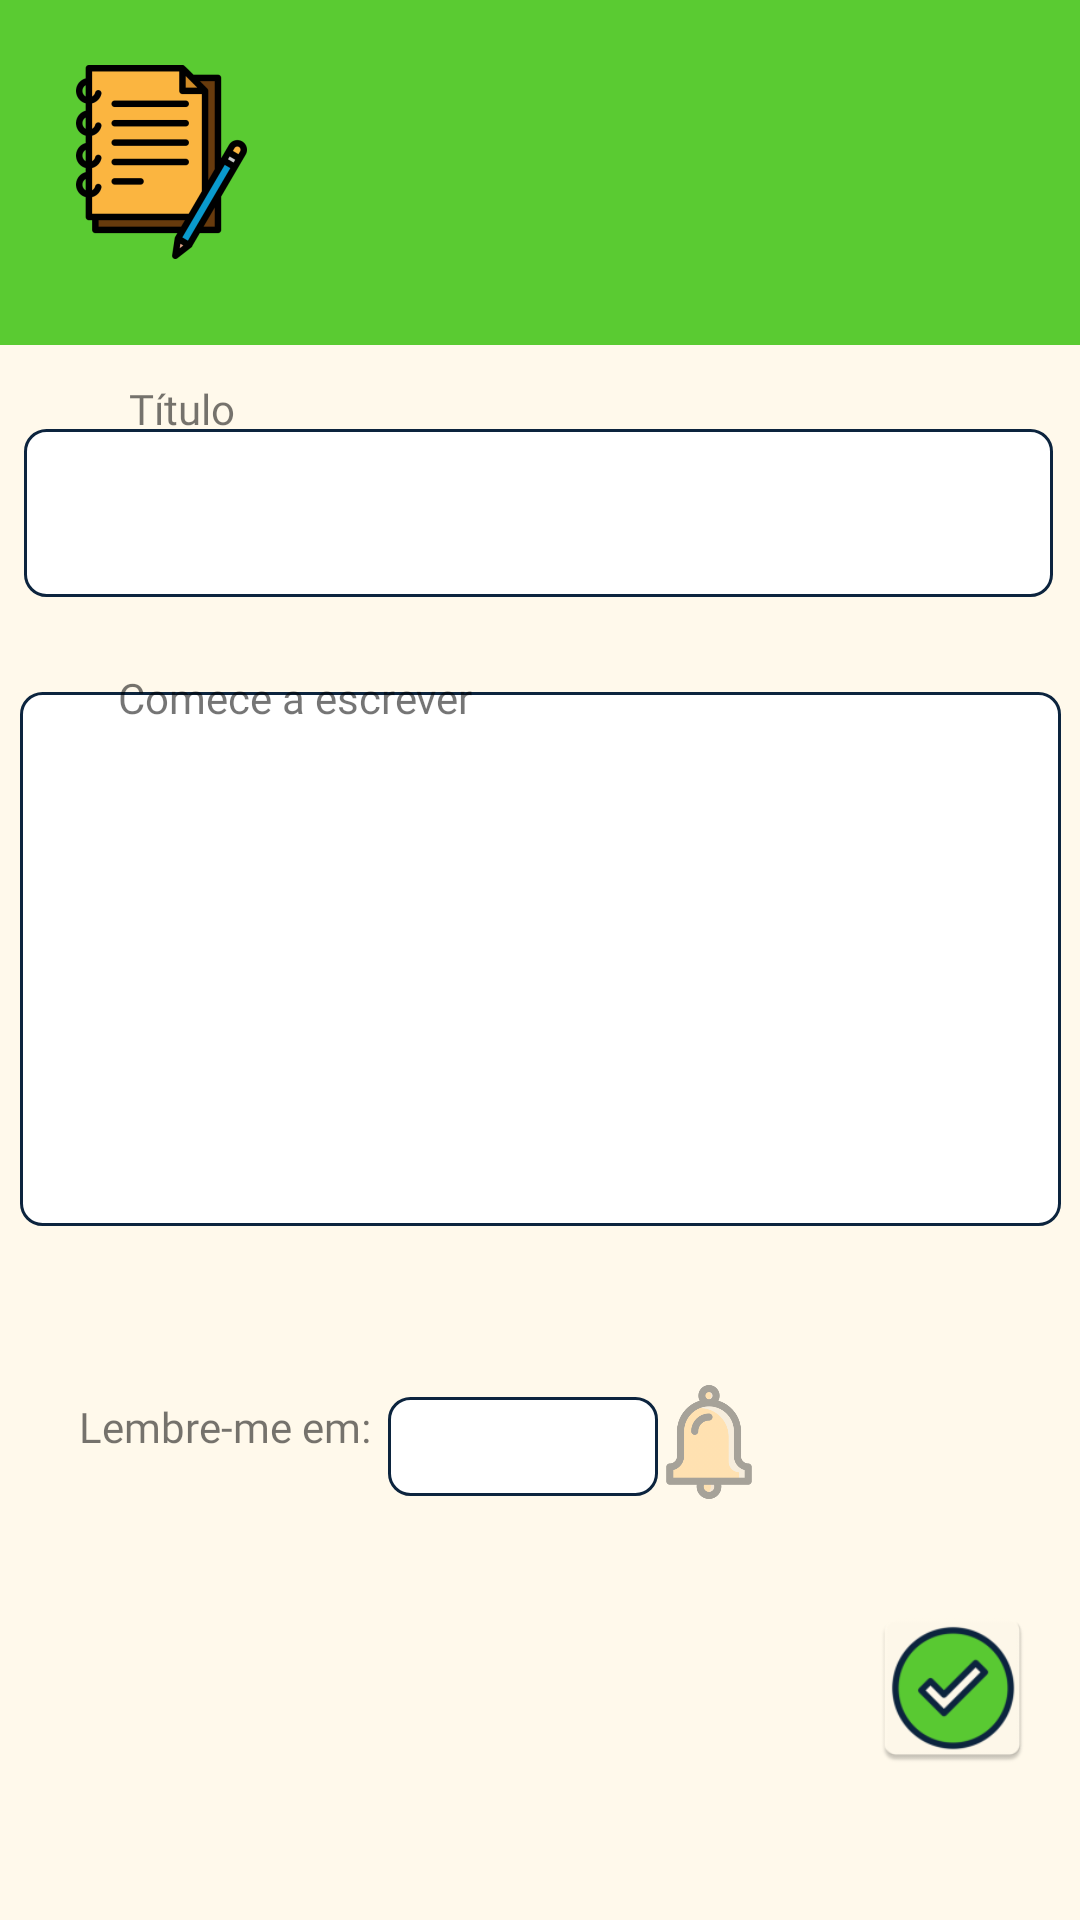

Named icons in this screenshot (1080*1920) and their centers, (x,y):
check: (953,1693)
sininho claro: (709,1442)
